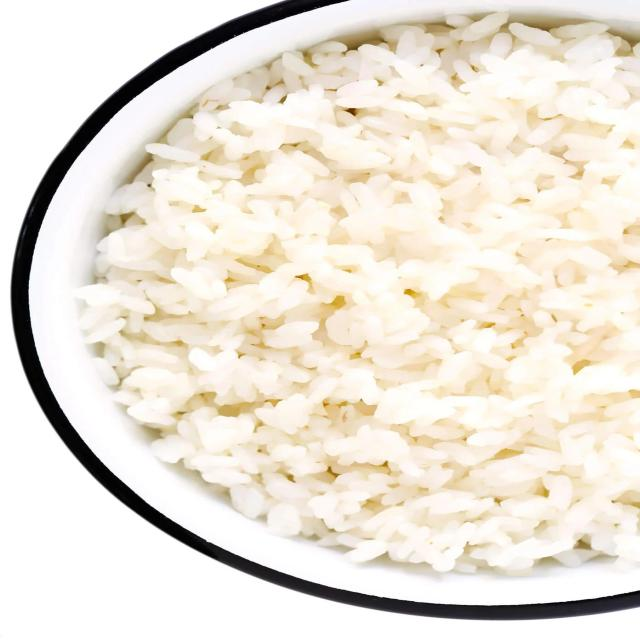rice: (92, 15, 640, 582)
